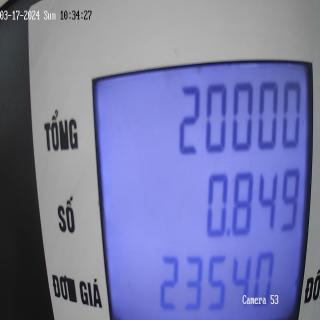screen: (89, 46, 316, 320)
